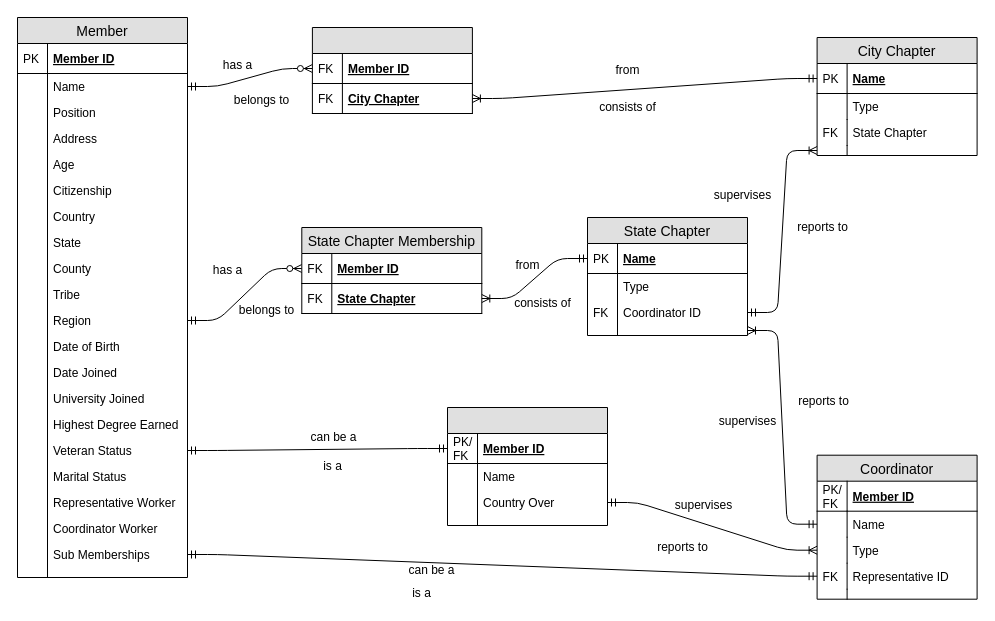
This 995x621 diagram has some shape labels left out. The box of each missing label's shape, as (x1, y1, x2, y2) in pixels:
City Chapter Membership: (311, 26, 472, 114)
Representative: (446, 406, 608, 526)
